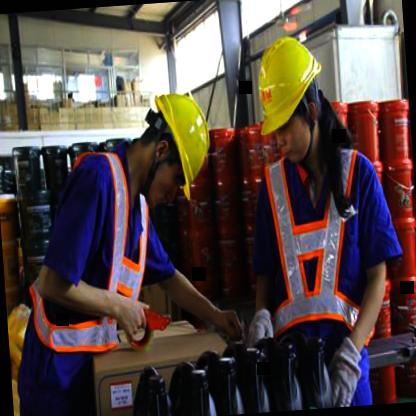helmet: (241, 18, 335, 165), (132, 77, 216, 200)
